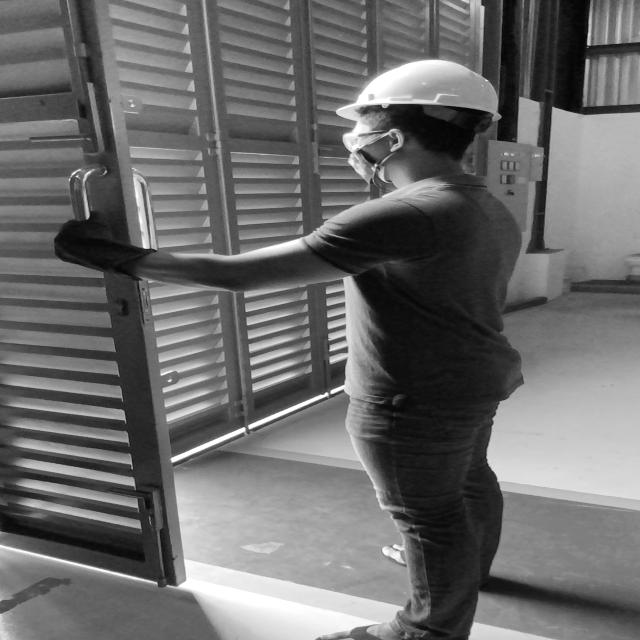glasses: (336, 124, 396, 155)
hand_glove: (44, 212, 134, 274)
head_helmet: (330, 56, 517, 126)
person: (200, 50, 560, 640)
